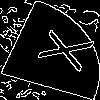X: (25, 25, 95, 73)
